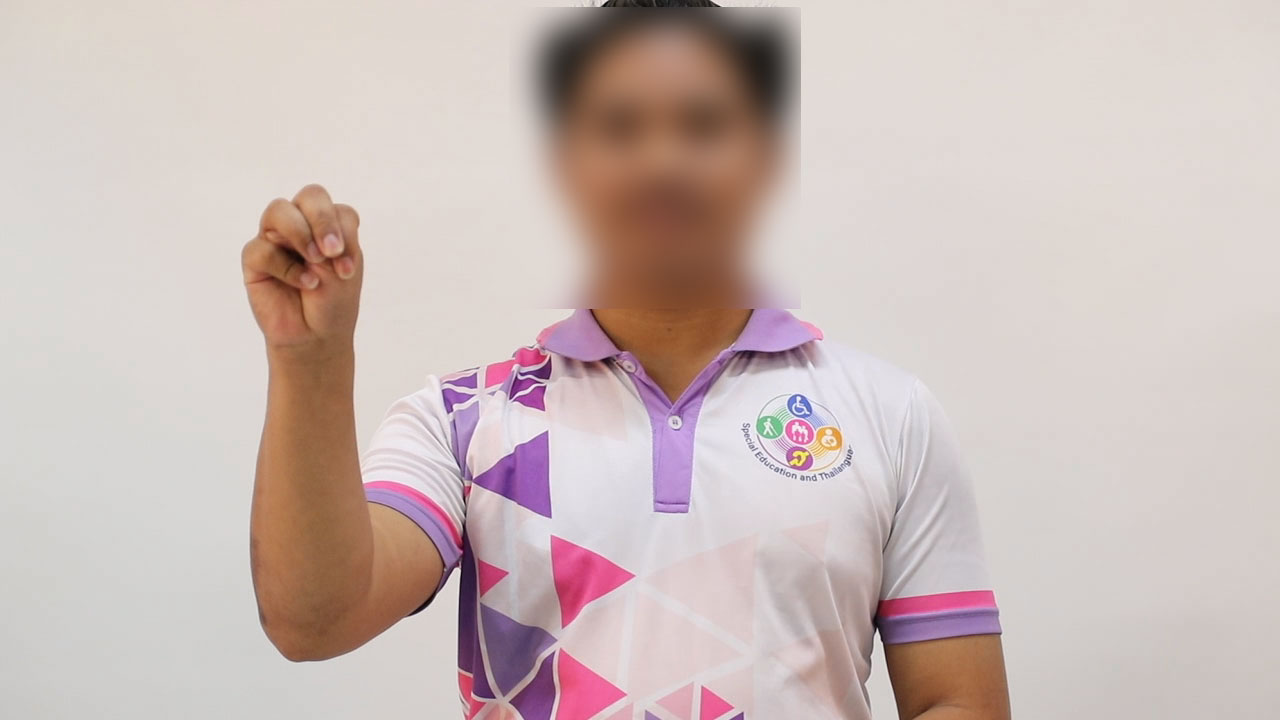mor: (213, 168, 394, 380)
